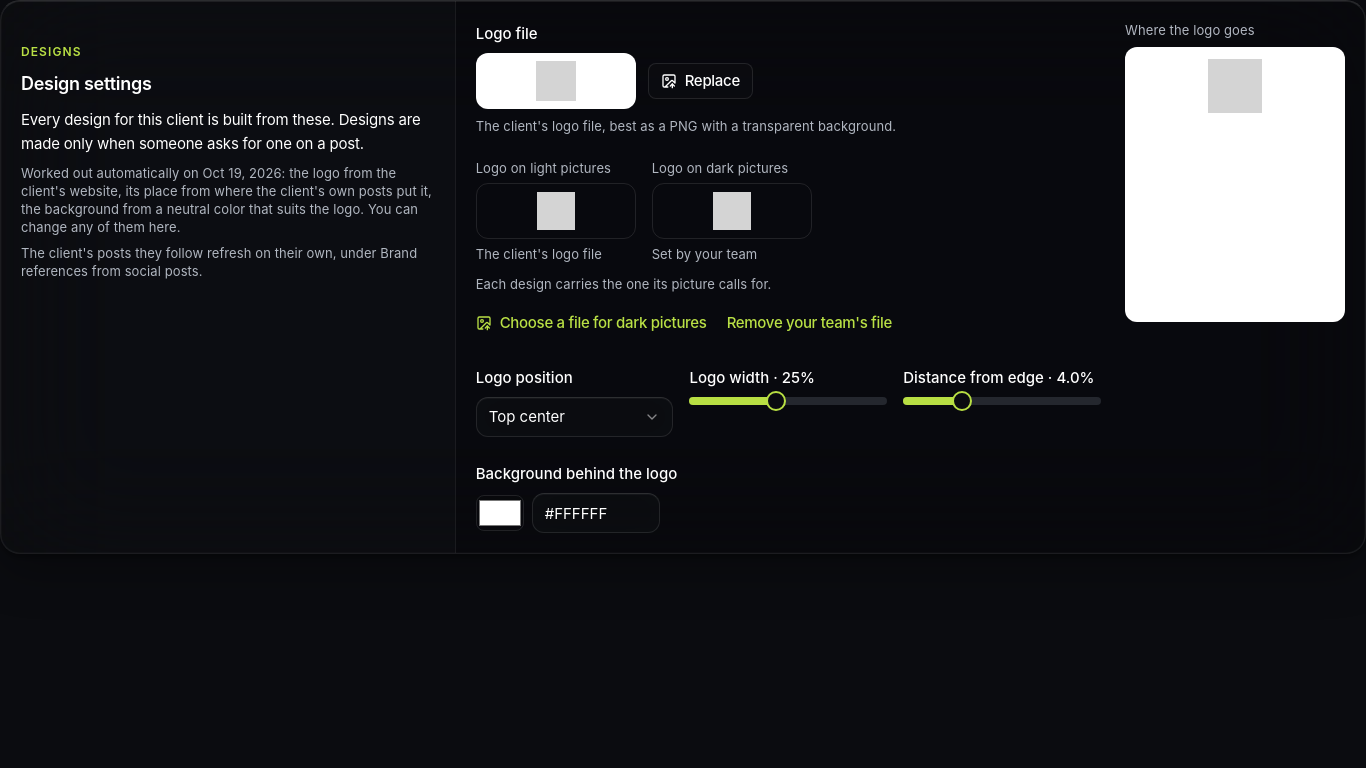
Scenario: says the team's second logo file is not removed yet when the remove does not get through
Click the button "Remove your team's file" at (809, 323), box [727, 305, 892, 341]
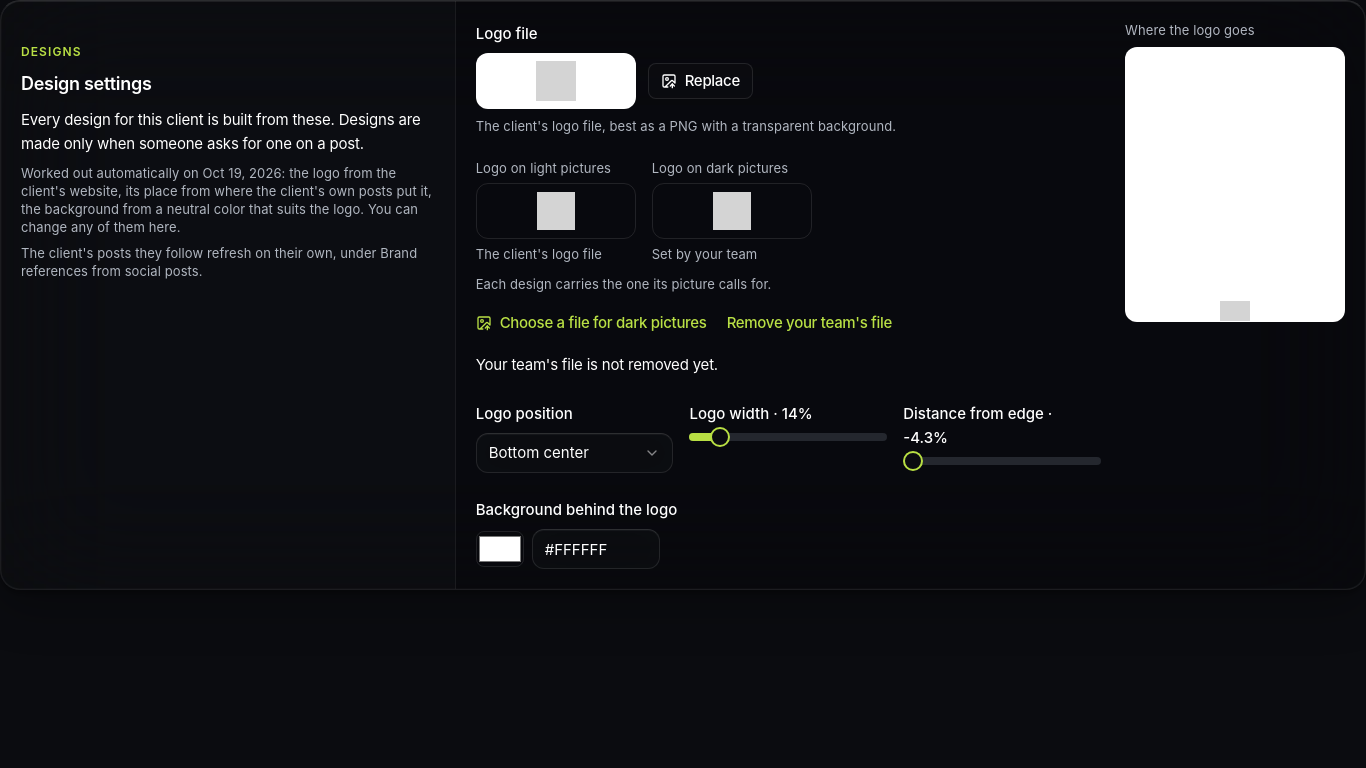
Expected: the text "Your team's file is not removed yet." is shown, [476, 355, 718, 374]
